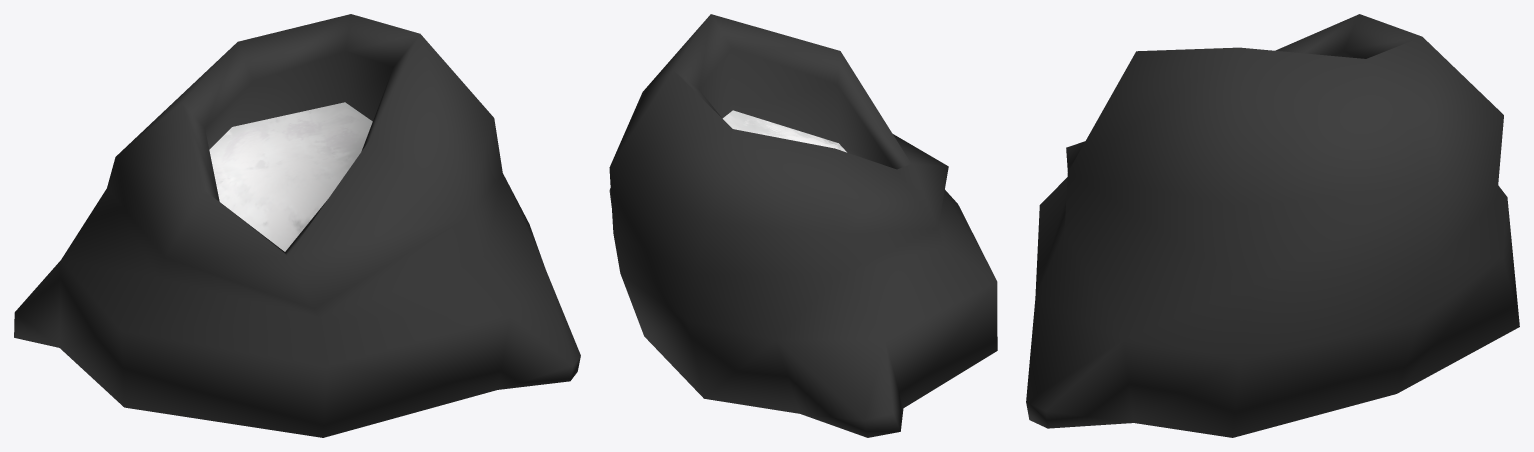
Rendered from SM_PROP_sack_02.FBX.
The picture shows the model from 3 angles, left to right: view 1: azimuth 30°, elevation 25°; view 2: azimuth 150°, elevation 25°; view 3: azimuth 270°, elevation 25°; orthographic projection. The views are drawn at different scales.
Visible parts, largest first — view 1: SM_PROP_sack_02; view 2: SM_PROP_sack_02; view 3: SM_PROP_sack_02.
Boxes of the visible parts, box(x1,y1,x2,y2) form: SM_PROP_sack_02: box(14, 14, 580, 437); SM_PROP_sack_02: box(609, 14, 997, 437); SM_PROP_sack_02: box(1026, 14, 1519, 437).
Size of the model in its own units: 70.05 by 62.72 by 49.3.
